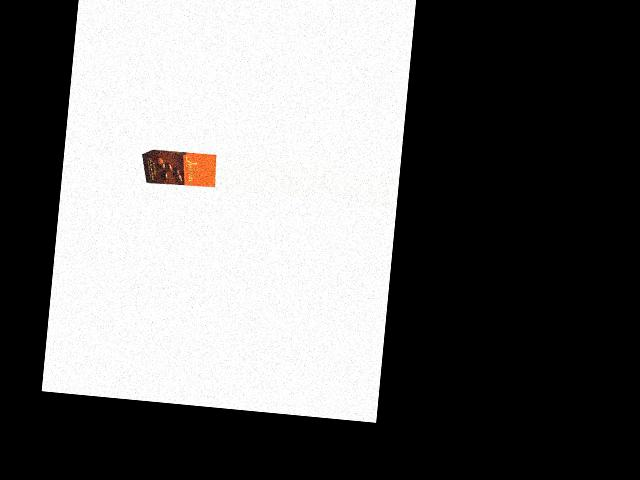chocolate: (139, 146, 217, 193)
